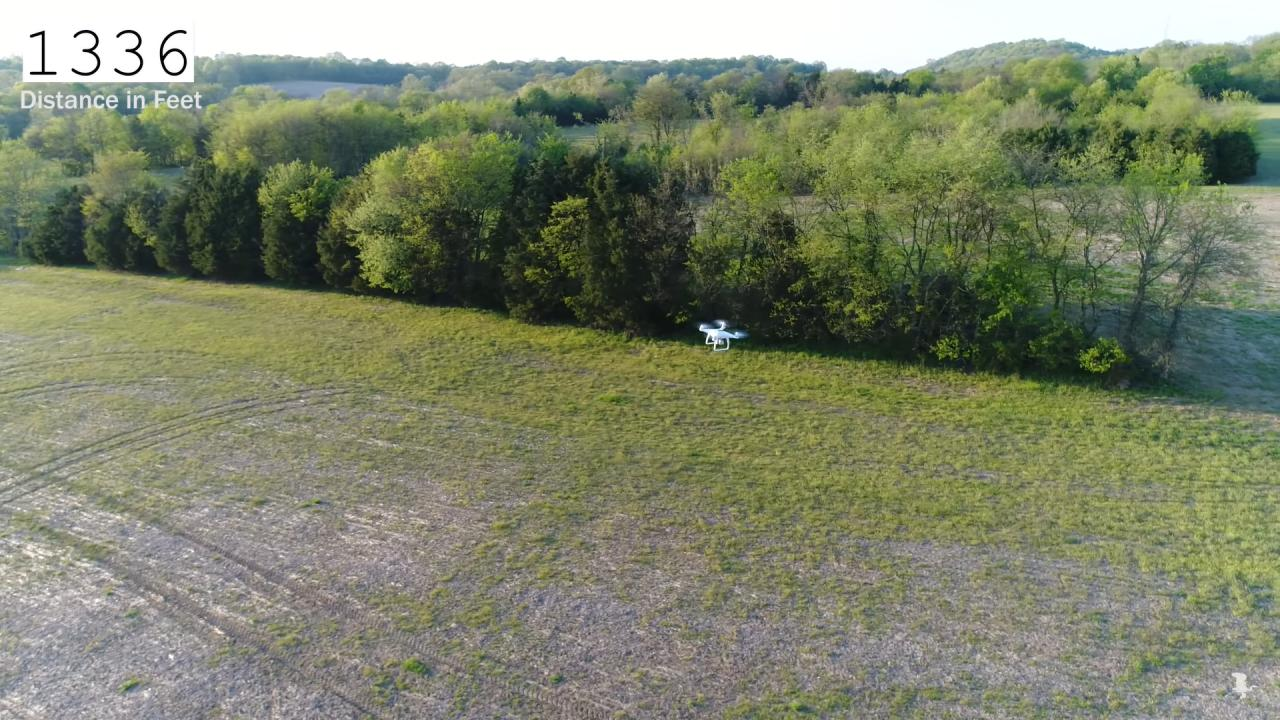Drone: (690, 311, 756, 358)
